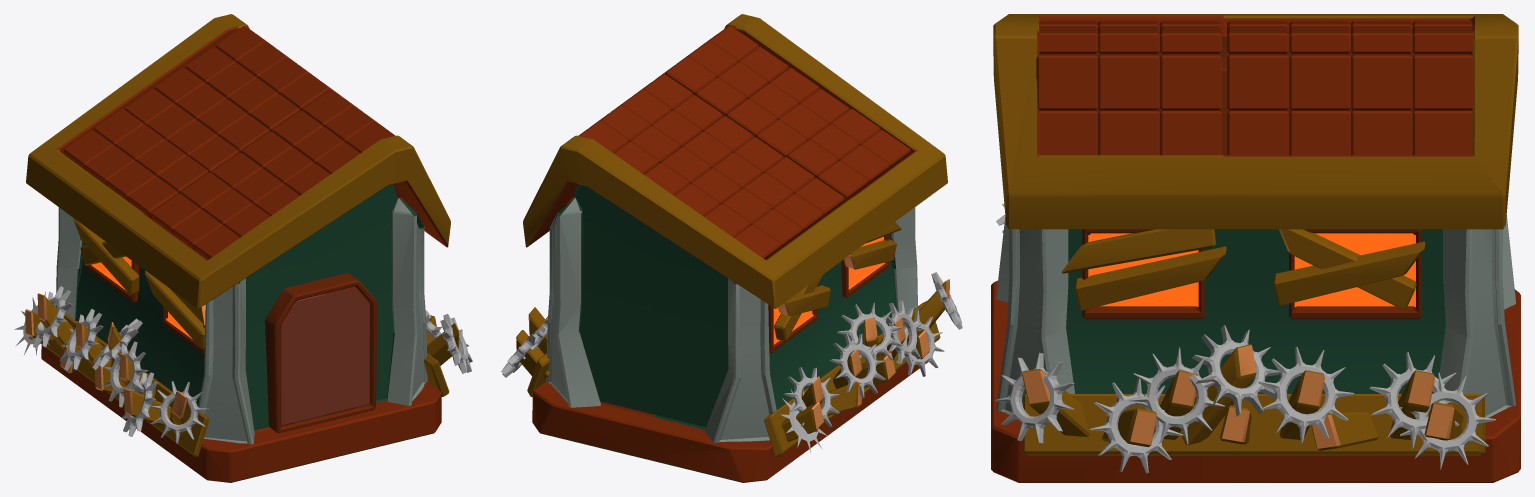
The model's file is birim_kule.fbx.
The picture shows the model from 3 angles, left to right: view 1: azimuth 30°, elevation 25°; view 2: azimuth 150°, elevation 25°; view 3: azimuth 270°, elevation 25°; orthographic projection. The views are drawn at different scales.
Visible parts, largest first — view 1: Cube.004; view 2: Cube.004; view 3: Cube.004.
Part boxes in pixels (box(x1,y1,x2,y2)): Cube.004: box(14, 14, 472, 482); Cube.004: box(501, 14, 962, 482); Cube.004: box(991, 14, 1520, 482).
Size of the model in its own units: 439 by 378 by 430.
